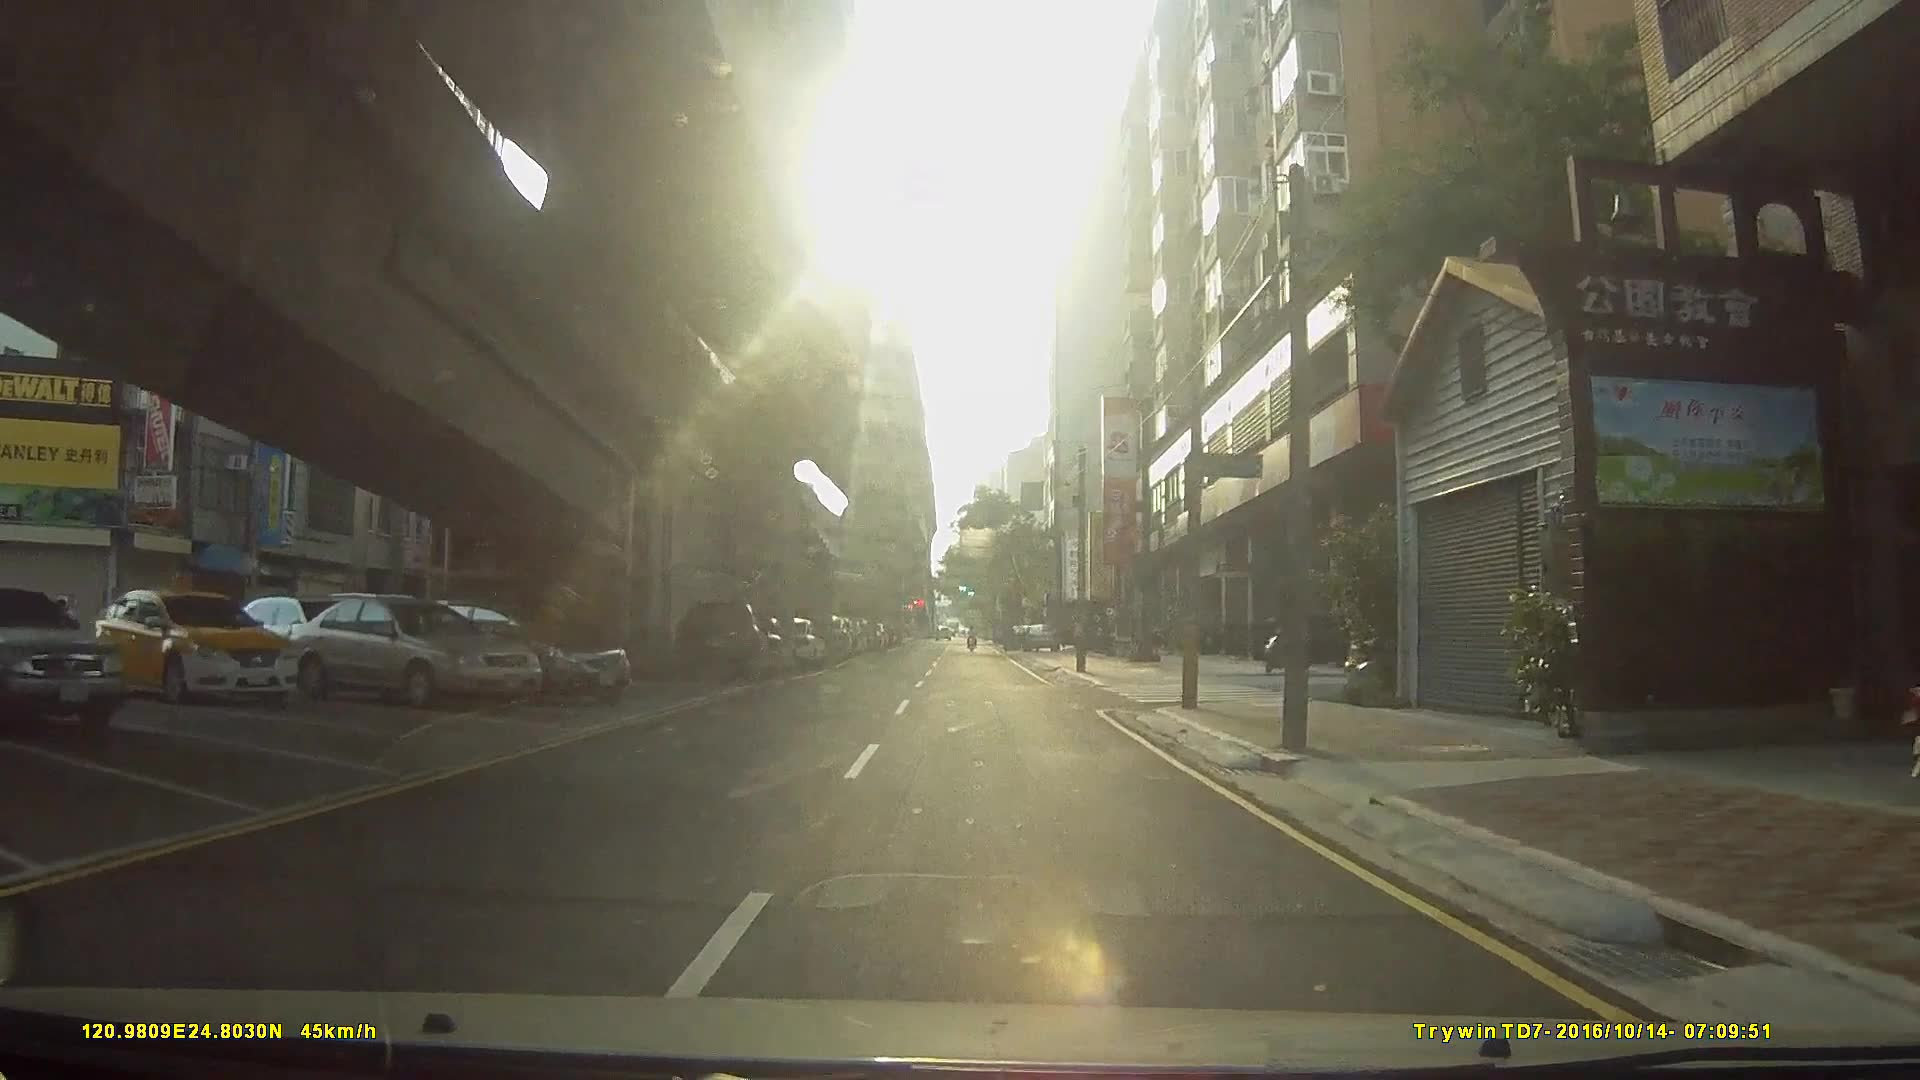vehicle: (281, 592, 542, 708), (384, 596, 634, 705), (90, 587, 298, 702), (3, 585, 127, 733), (673, 596, 771, 679)
